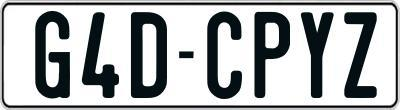4: (79, 10, 117, 99)
C: (207, 9, 248, 102)
D: (130, 12, 171, 104)
G: (32, 11, 70, 101)
P: (252, 11, 288, 102)
Y: (299, 10, 334, 100)
Z: (342, 9, 380, 96)
